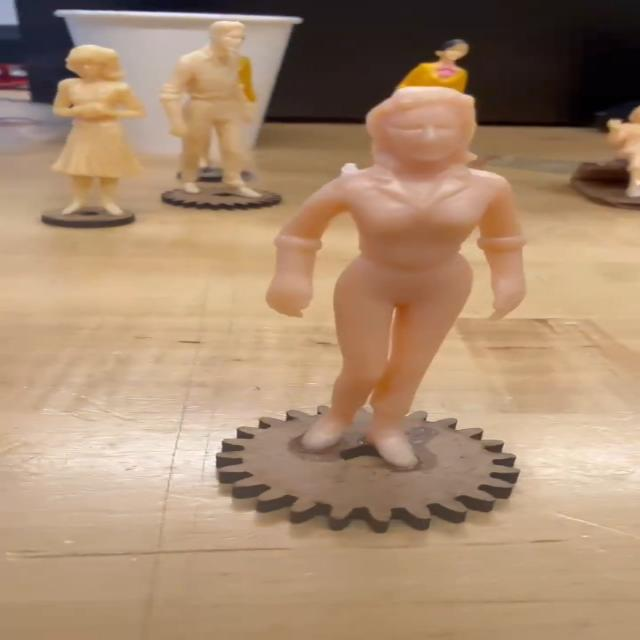Unauthorized: (227, 77, 560, 482)
